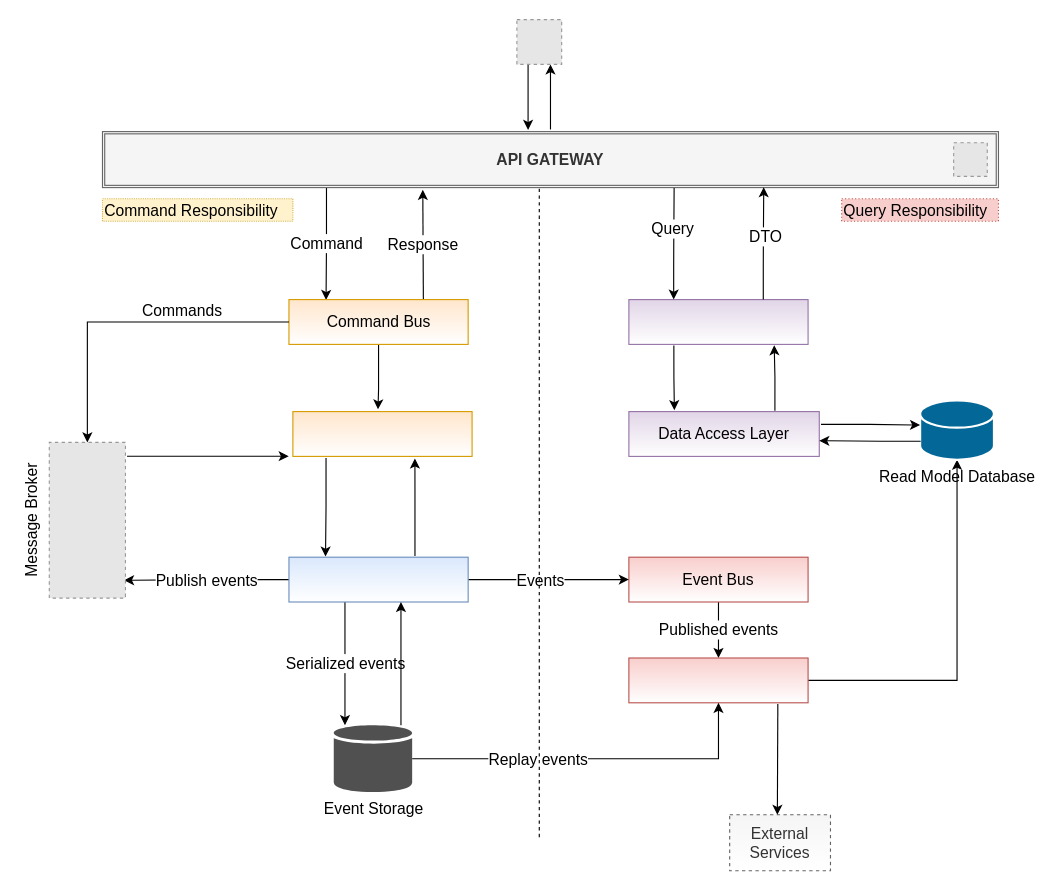
Some shapes in this 1054 by 890 pixel diagram are drawn without their labels. Grey dashed boxes stand in for pictures. The centre of each missing label's shape, as x and y in pixels:
"Command Handler" belongs at point (382, 433).
"Domain (Aggregates and Repositories)" belongs at point (378, 579).
"Event Handlers/ Projectors" belongs at point (718, 680).
"Query Handler" belongs at point (718, 321).
